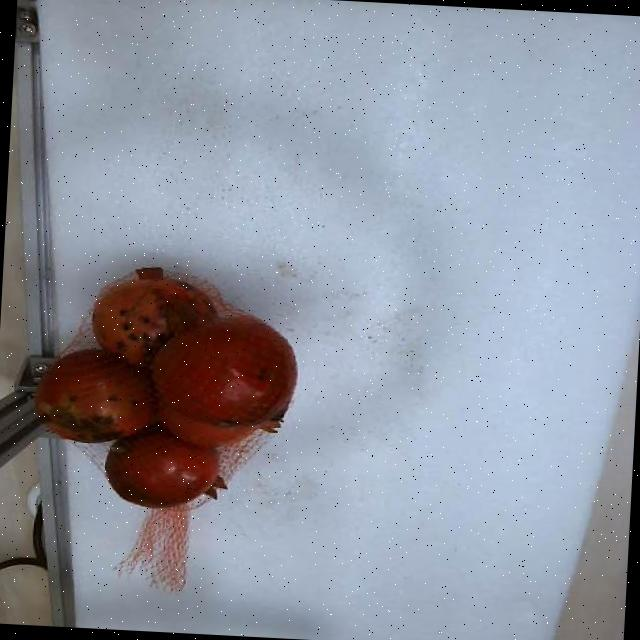potato: (106, 425, 217, 507)
